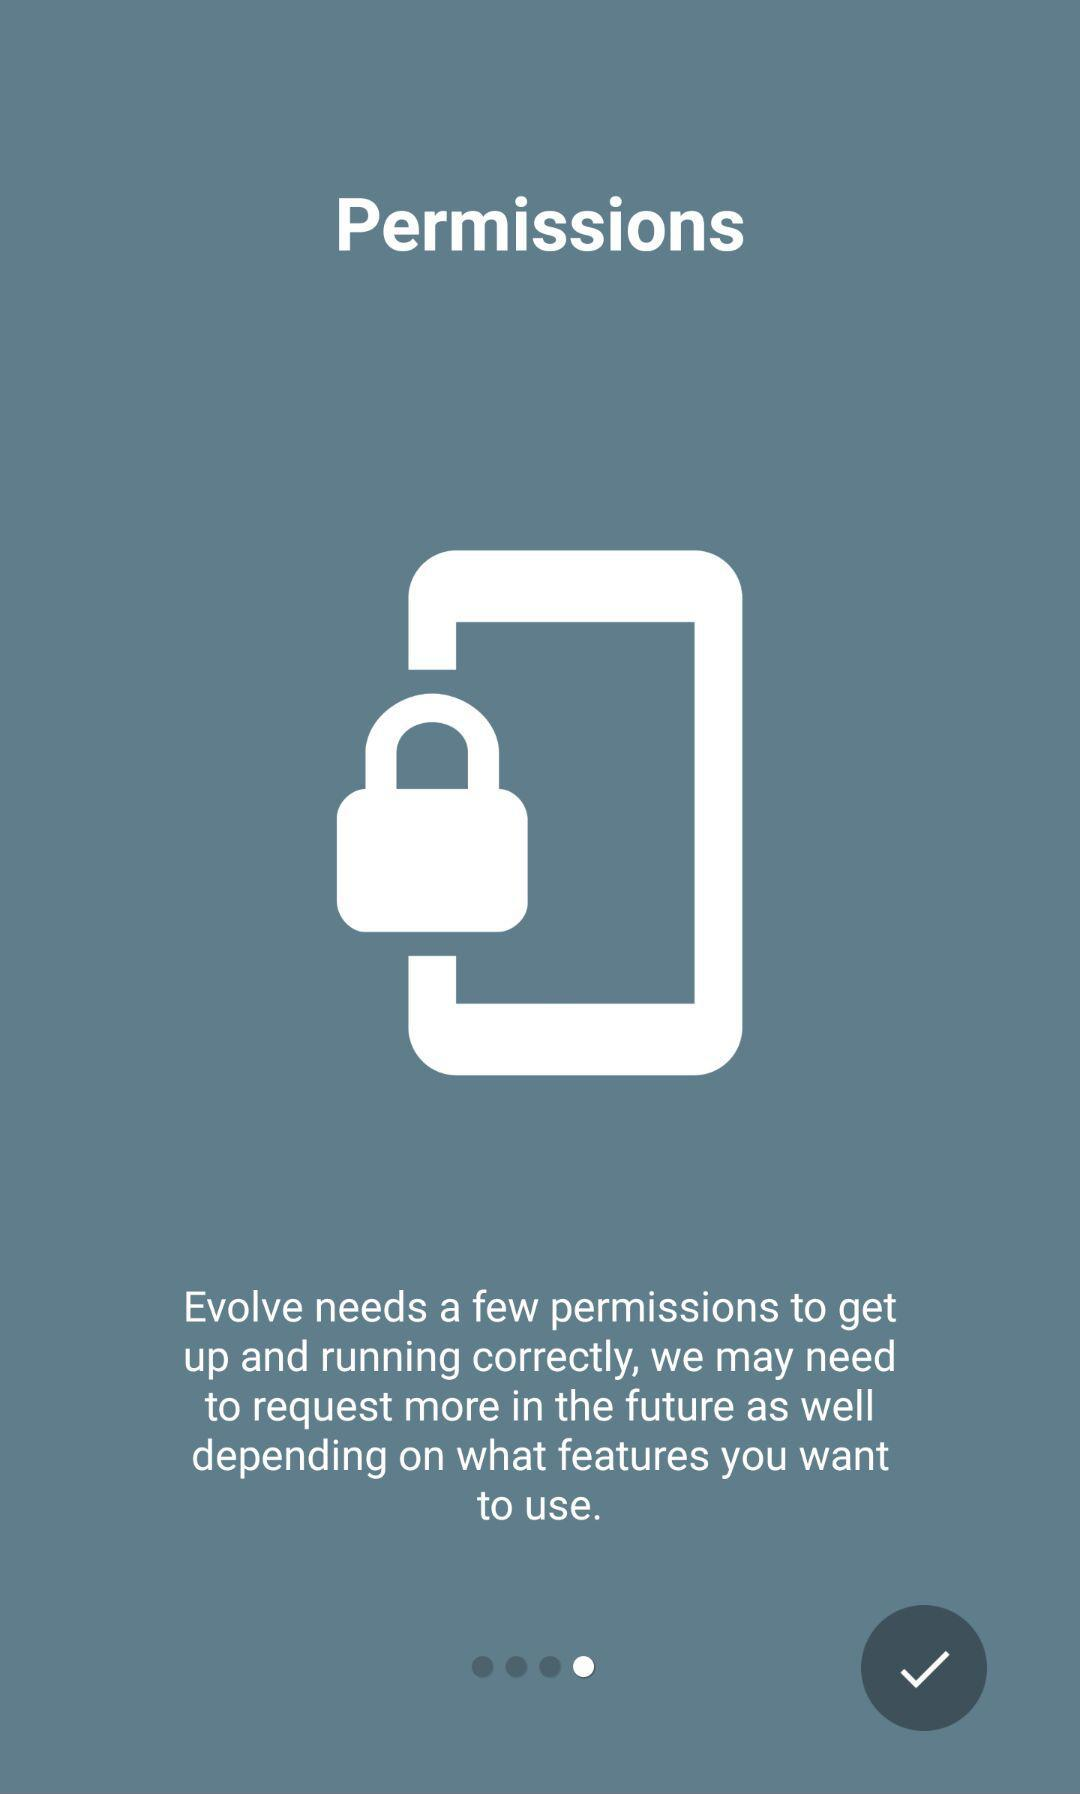Icon: (860, 1604, 988, 1732)
Image: (336, 548, 744, 1078)
PageIndicator: (471, 1654, 596, 1680)
Text: (184, 1289, 897, 1522), (340, 196, 746, 254)
